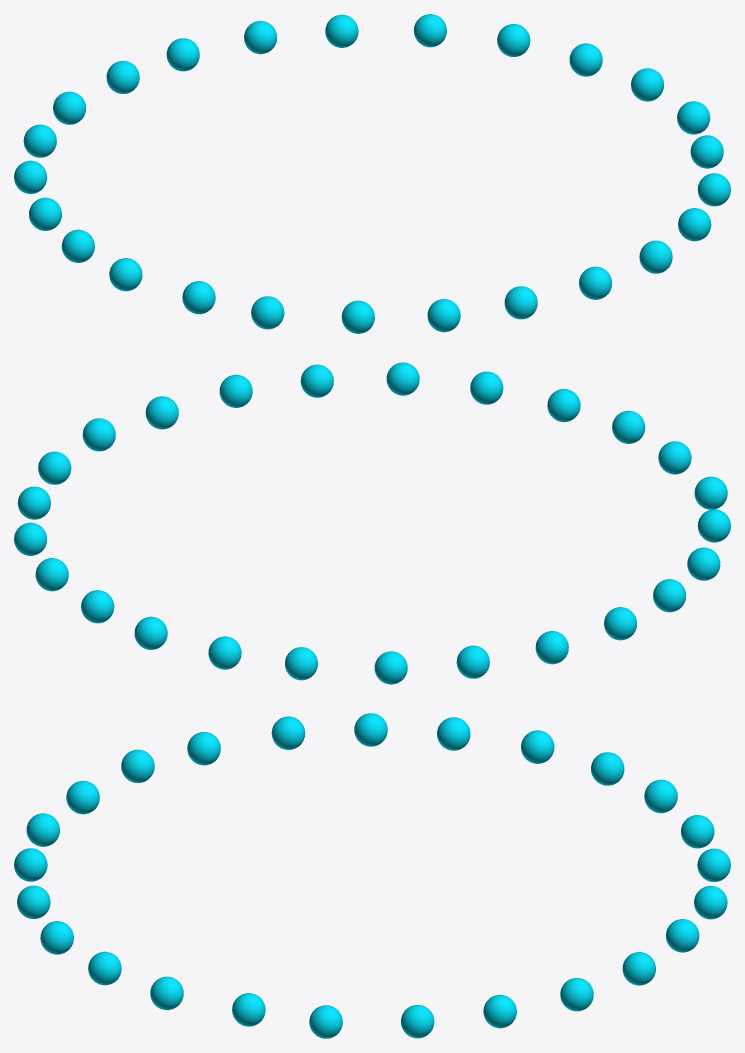
3 views of the same model, one above another, from view 1: azimuth 30°, elevation 25°; view 2: azimuth 150°, elevation 25°; view 3: azimuth 270°, elevation 25° (orthographic).
Parts seen in each view (by area): view 1: Sphere050; view 2: Sphere050; view 3: Sphere050.
Part boxes in pixels (left/top/right/bottom): Sphere050: left=14, top=14, right=730, bottom=333; Sphere050: left=14, top=362, right=730, bottom=684; Sphere050: left=14, top=713, right=730, bottom=1038.
Bounding box in the file's own units: 177 × 8.22 × 175.
